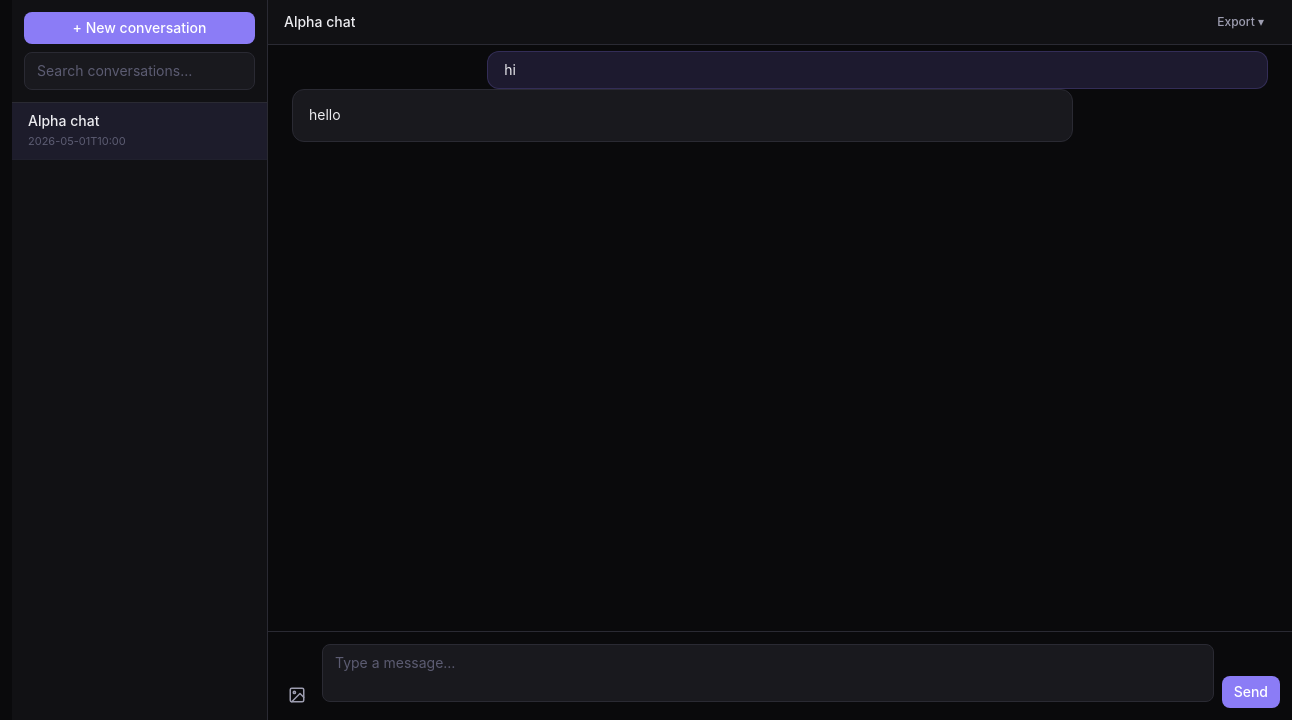
Test case: ChatView export menu › opens the export menu on click
Click the button with test id "chat-export-button".
click(1241, 22)  # box 1205,8 -> 1276,36
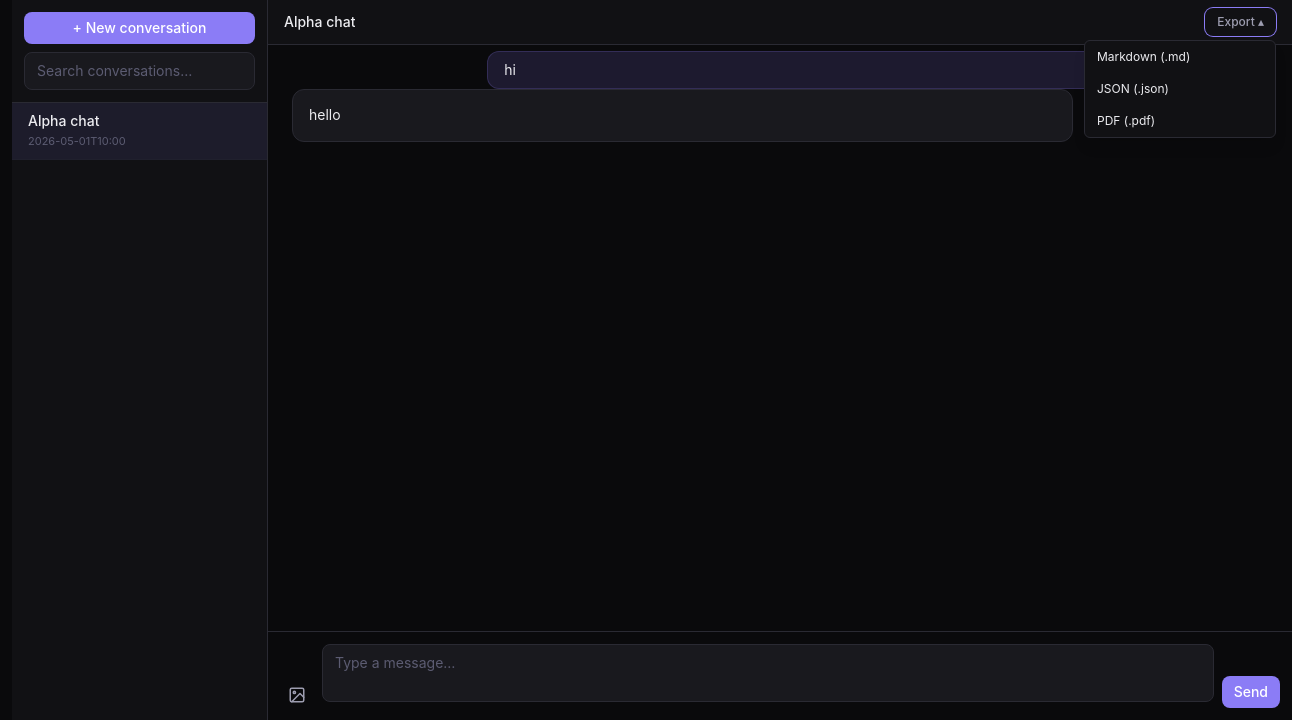
Expected: the menu with test id "chat-export-menu" is shown, 1084,40 -> 1276,138
Expected: the menu item with test id "chat-export-md" is shown, 1085,41 -> 1275,73
Expected: the menu item with test id "chat-export-json" is shown, 1085,73 -> 1275,105
